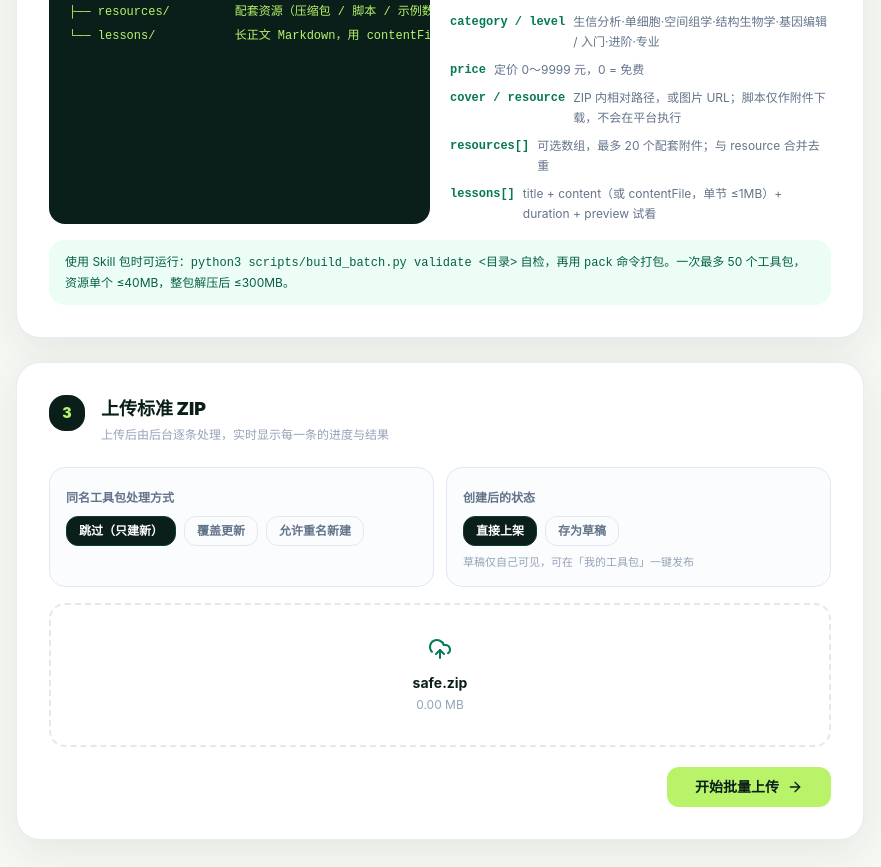
Test case: mutation/request scope regressions › batch polls the async job and renders per-item results from the report
Earlier steps of the test are not shown.
(page scrolled)
Click the button "开始批量上传". click: (749, 787)
box: [667,767,831,807]
(page scrolled)
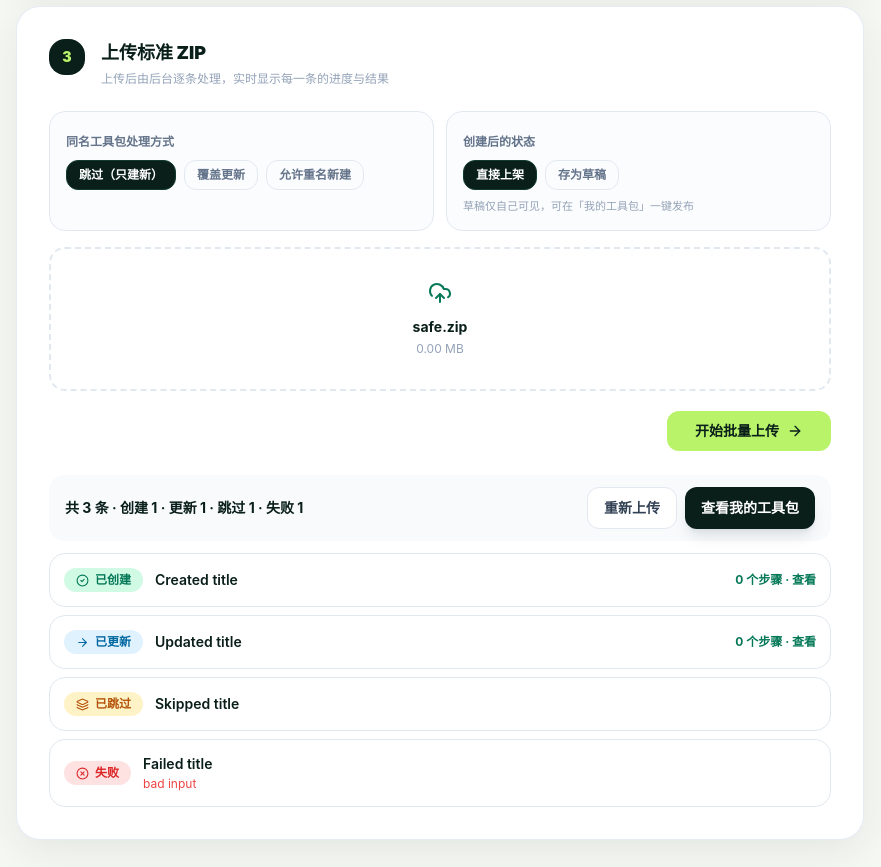
expect the text "共 3 条 · 创建 1 · 更新 1 · 跳过 1 · 失败 1" is shown: met, box [65,498,303,518]
expect the text "Skipped title" is shown: met, box [155,695,239,712]
expect the text "bad input" is shown: met, box [143,776,196,791]
